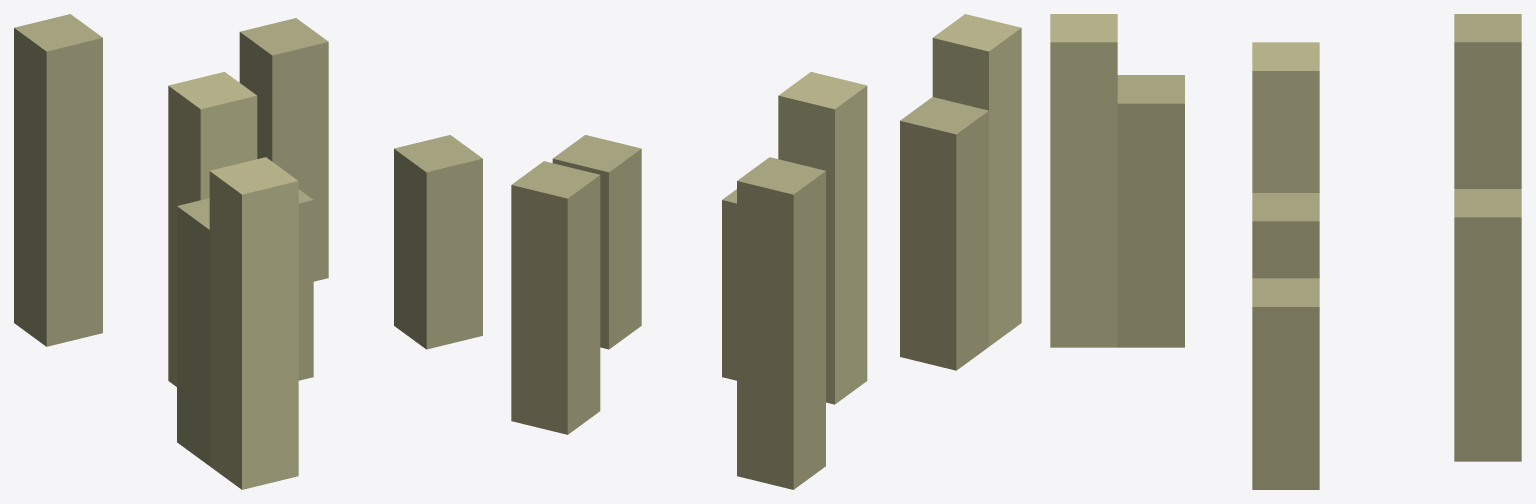
File: barron_05.glb
3 renders of one model, left to right at view 1: azimuth 30°, elevation 25°; view 2: azimuth 150°, elevation 25°; view 3: azimuth 270°, elevation 25°, orthographic. The views are drawn at different scales.
Parts seen in each view (by area): view 1: barron_05; view 2: barron_05; view 3: barron_05.
Boxes of the visible parts, <box> form: barron_05: <box>14,14,482,489</box>; barron_05: <box>511,14,1021,489</box>; barron_05: <box>1050,14,1521,489</box>.
Size of the model in its own units: 0.6 by 0.5 by 0.7.
